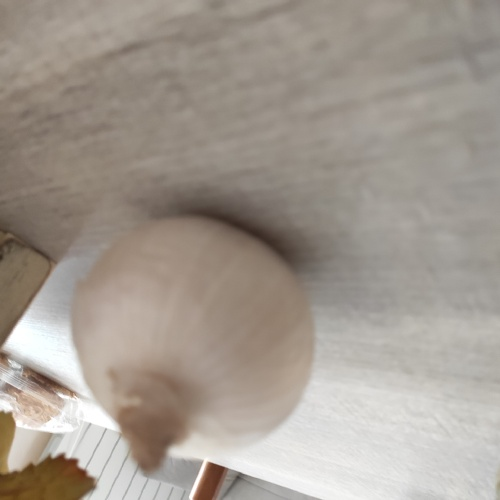cipolla: (61, 205, 318, 484)
